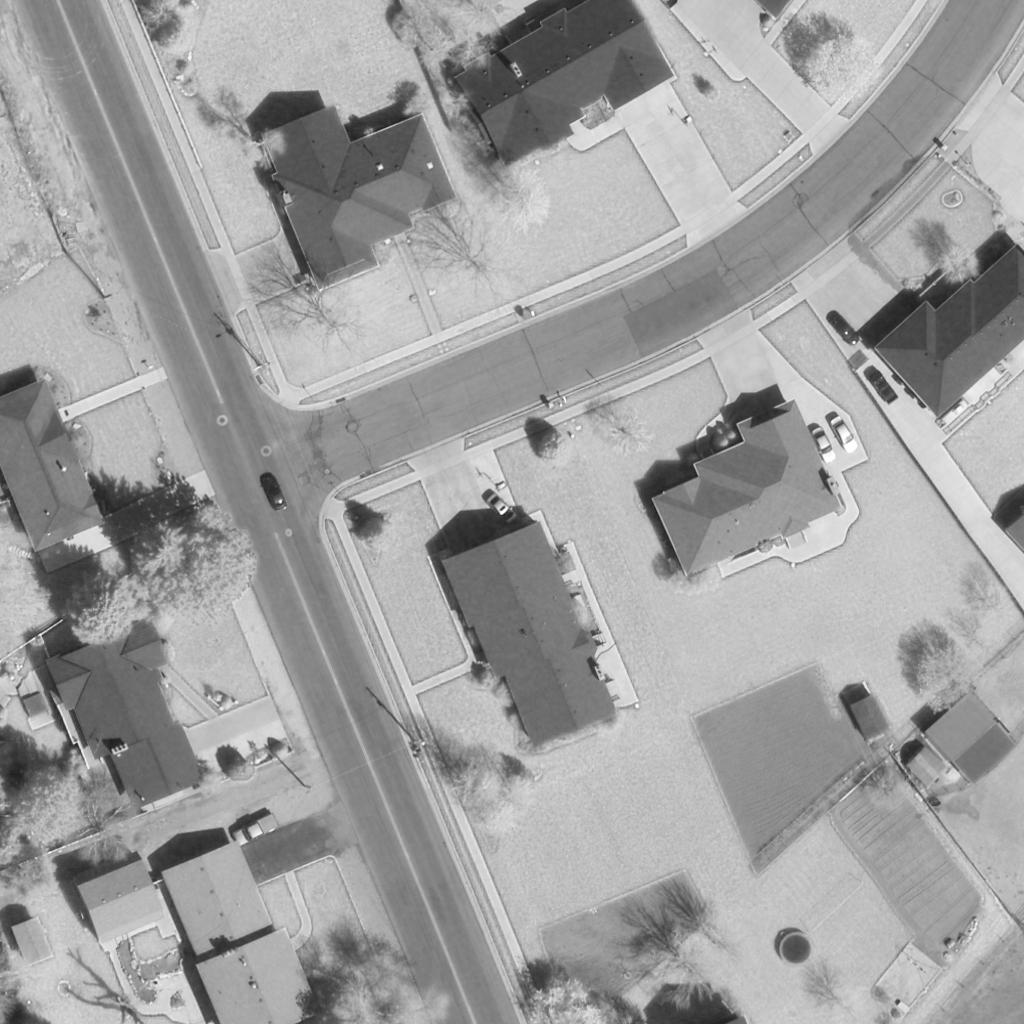vehicle: (231, 814, 281, 846), (484, 492, 520, 528), (829, 416, 861, 454), (829, 314, 863, 346), (870, 371, 900, 405), (811, 429, 839, 465), (261, 475, 287, 513)
